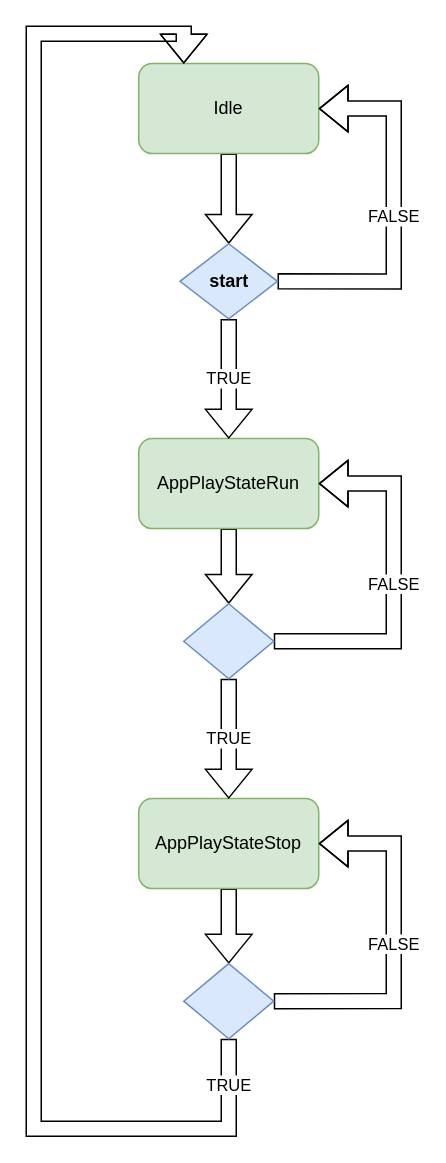
Some shapes in this 446 by 1163 pixel diagram are drawn without their labels. Each missing label, with the box of its shape:
DMA DONE: (182, 962, 274, 1039)
stop: (182, 602, 274, 679)
